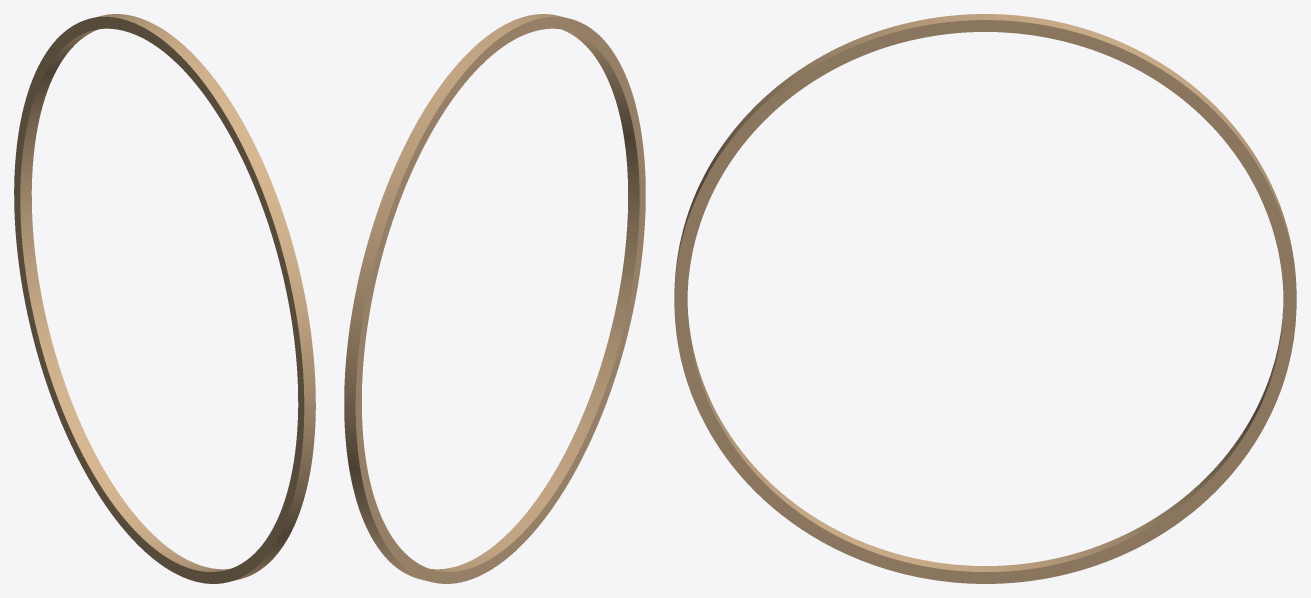
The model's file is core-throat-lip.glb.
3 renders of one model, left to right at view 1: azimuth 30°, elevation 25°; view 2: azimuth 150°, elevation 25°; view 3: azimuth 270°, elevation 25°, orthographic. The views are drawn at different scales.
Visible parts, largest first — view 1: core-throat-lip - bronze; view 2: core-throat-lip - bronze; view 3: core-throat-lip - bronze.
Boxes of the visible parts, x1,y1,x2,y2 form: core-throat-lip - bronze: [14, 14, 315, 583]; core-throat-lip - bronze: [344, 14, 645, 583]; core-throat-lip - bronze: [674, 14, 1296, 583].
Bounding box in the file's own units: 0.024 × 1.04 × 1.04.
